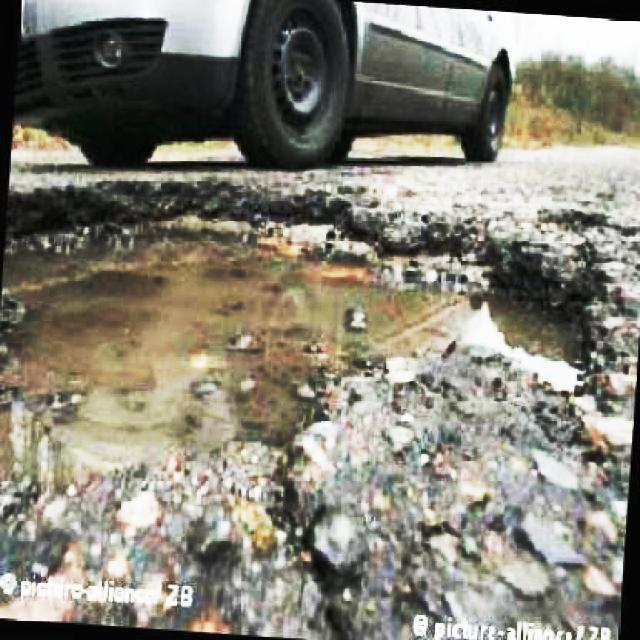pothole: (0, 180, 625, 494)
